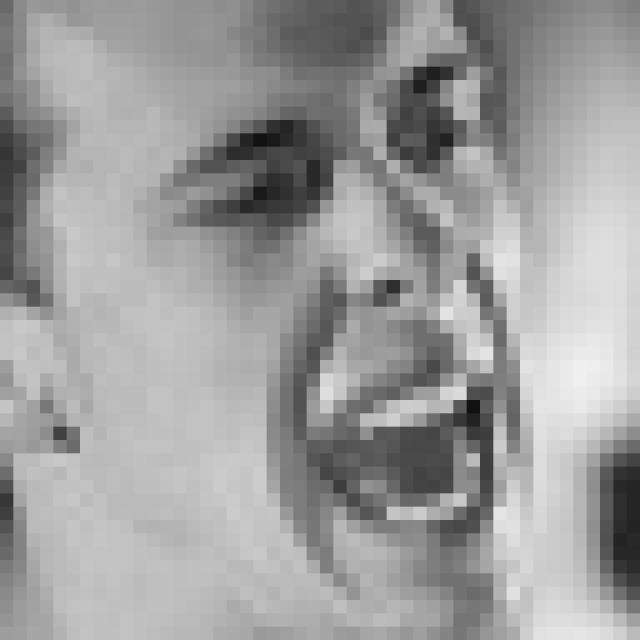angry: (148, 26, 526, 601)
